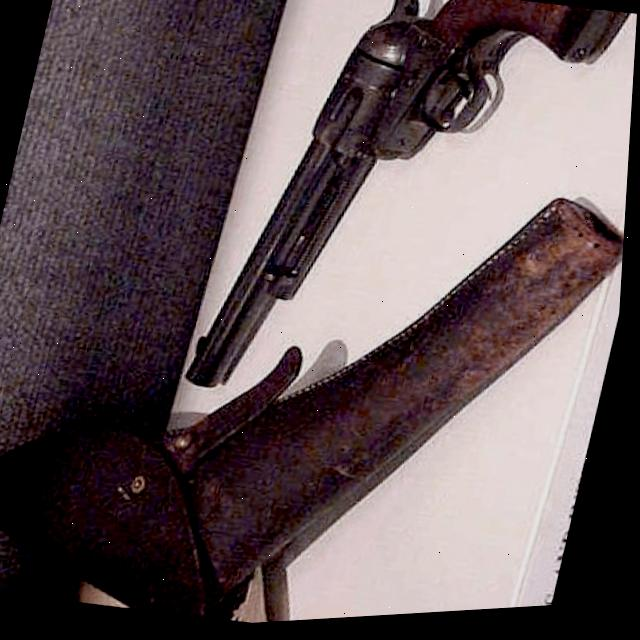pistol: (179, 0, 640, 453)
